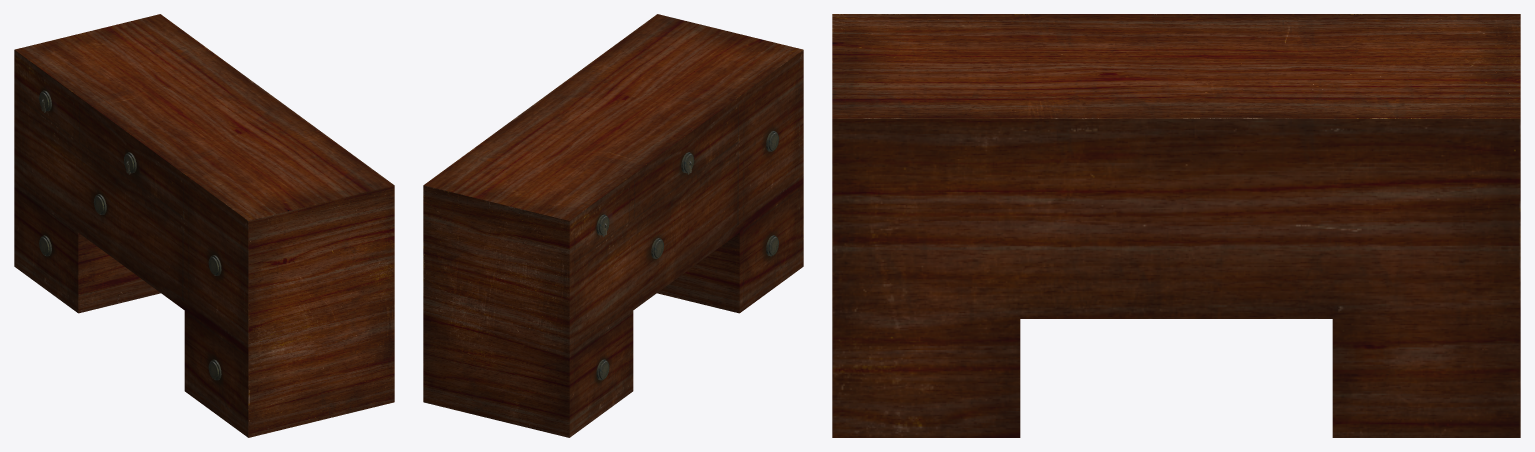
The model's file is SM_Mungap.fbx.
3 renders of one model, left to right at view 1: azimuth 30°, elevation 25°; view 2: azimuth 150°, elevation 25°; view 3: azimuth 270°, elevation 25°, orthographic. The views are drawn at different scales.
Visible parts, largest first — view 1: SM_Mungap; view 2: SM_Mungap; view 3: SM_Mungap.
Part boxes in pixels (bbox=[...]): SM_Mungap: bbox=[14, 14, 394, 437]; SM_Mungap: bbox=[423, 14, 803, 437]; SM_Mungap: bbox=[832, 14, 1520, 437].
Bounding box in the file's own units: 37.22 × 99.9 × 51.1.
Materials: 1 (1 with a texture image).
